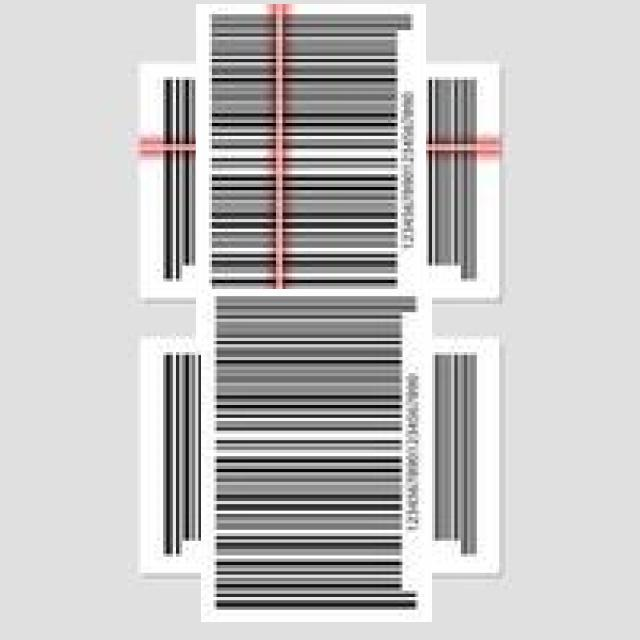Barkod: (166, 33, 457, 324), (176, 314, 458, 597)
